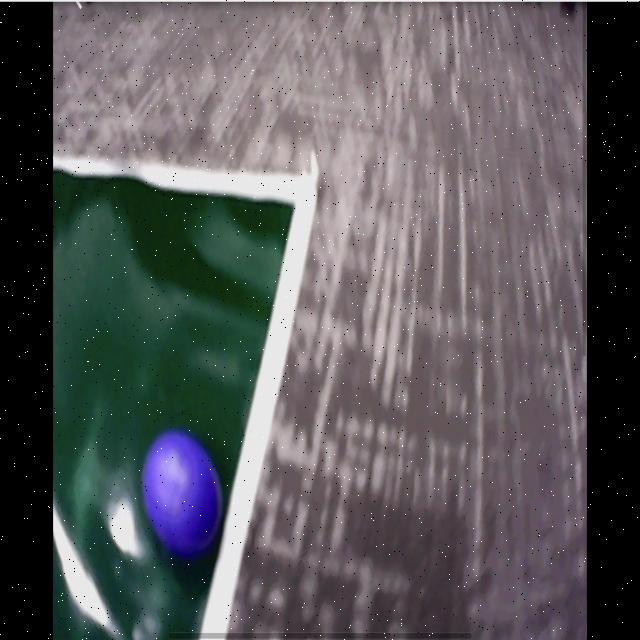ball: (141, 438, 224, 557)
